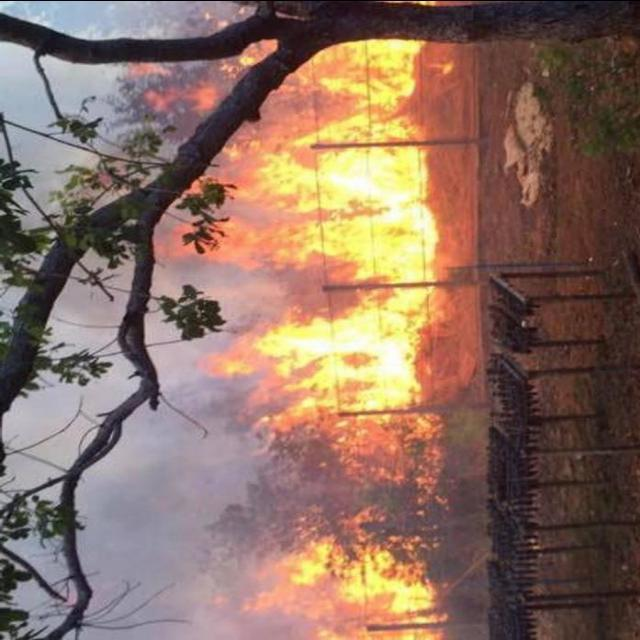Fire: (172, 53, 461, 487), (238, 518, 446, 638)
